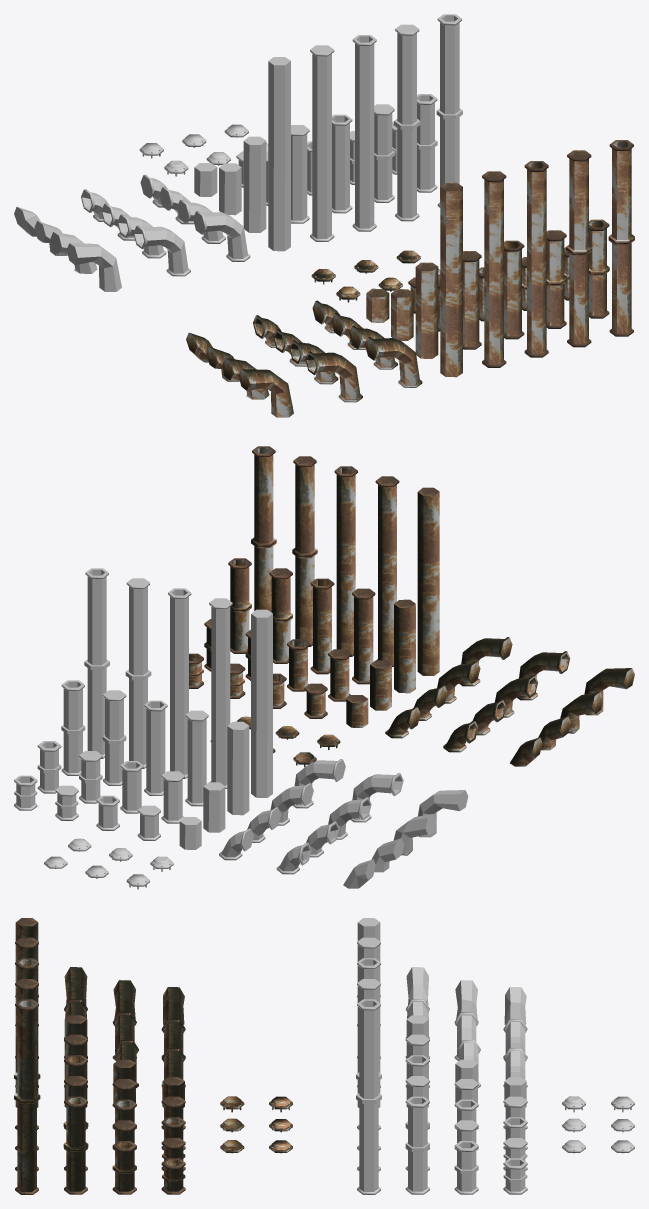
File: pipes.fbx
3 views of the same model, one above another, from view 1: azimuth 30°, elevation 25°; view 2: azimuth 150°, elevation 25°; view 3: azimuth 270°, elevation 25° (orthographic). The views are drawn at different scales.
Parts seen in each view (by area): view 1: BigPipeCol, BigPipeCol.001, BigPipeClosedAlt.001, BigPipeClosedAlt, BigPipeOpenAlt.001, BigPipeClosed, BigPipeOpen, BigPipeOpen.001, BigPipeClosed.001, BigPipeOpenAlt, RegularPipeCol, RegularPipeCol.001 (+24 smaller); view 2: BigPipeCol.001, BigPipeCol, BigPipeClosedAlt.001, BigPipeOpenAlt, BigPipeOpen.001, BigPipeClosed, BigPipeClosedAlt, BigPipeOpen, BigPipeClosed.001, BigPipeOpenAlt.001, RegularPipeCol, RegularPipeCol.001 (+45 smaller); view 3: BigPipeOpenAlt.001, BigPipeOpenAlt, RegularPipeOpenAlt, RegularPipeOpenAlt.001, BigPipeCol, BigPipeCol.001, MediumPipeOpenAlt, MediumPipeOpenAlt.001, RegularPipeCol.001, ShortPipeOpenAlt, ShortPipeOpenAlt.001, CurveMediumCol.001 (+42 smaller).
Boxes of the visible parts, x1,y1,x2,y2 form: BigPipeCol: (268,57,290,251); BigPipeCol.001: (440,182,462,377); BigPipeClosedAlt.001: (566,150,592,347); BigPipeClosedAlt: (394,24,420,221); BigPipeOpenAlt.001: (608,140,634,336); BigPipeClosed: (310,45,334,241); BigPipeOpen: (352,35,376,231); BigPipeOpen.001: (524,161,548,357); BigPipeClosed.001: (482,171,506,367); BigPipeOpenAlt: (436,14,462,207); RegularPipeCol: (243,136,266,232); RegularPipeCol.001: (415,262,438,358); BigPipeCol.001: (417,487,439,675); BigPipeCol: (251,609,272,797); BigPipeClosedAlt.001: (292,456,317,646); BigPipeOpenAlt: (84,568,109,758); BigPipeOpen.001: (334,466,357,656); BigPipeClosed: (209,598,232,788); BigPipeClosedAlt: (125,578,151,768); BigPipeOpen: (168,588,191,778); BigPipeClosed.001: (375,476,399,666); BigPipeOpenAlt.001: (251,446,276,612); RegularPipeCol: (227,721,249,815); RegularPipeCol.001: (394,599,415,693); BigPipeOpenAlt.001: (14,999,40,1194); BigPipeOpenAlt: (356,999,381,1194); RegularPipeOpenAlt: (405,1096,429,1194); RegularPipeOpenAlt.001: (63,1096,88,1194); BigPipeCol: (357,918,380,1107); BigPipeCol.001: (15,918,38,1107); MediumPipeOpenAlt: (454,1141,478,1194); MediumPipeOpenAlt.001: (112,1141,136,1194); RegularPipeCol.001: (64,1015,87,1107); ShortPipeOpenAlt: (503,1158,527,1194); ShortPipeOpenAlt.001: (161,1158,185,1194); CurveMediumCol.001: (64,967,87,1018).
Size of what is drawn, in the model's own units: 4553 by 2109 by 6358.
